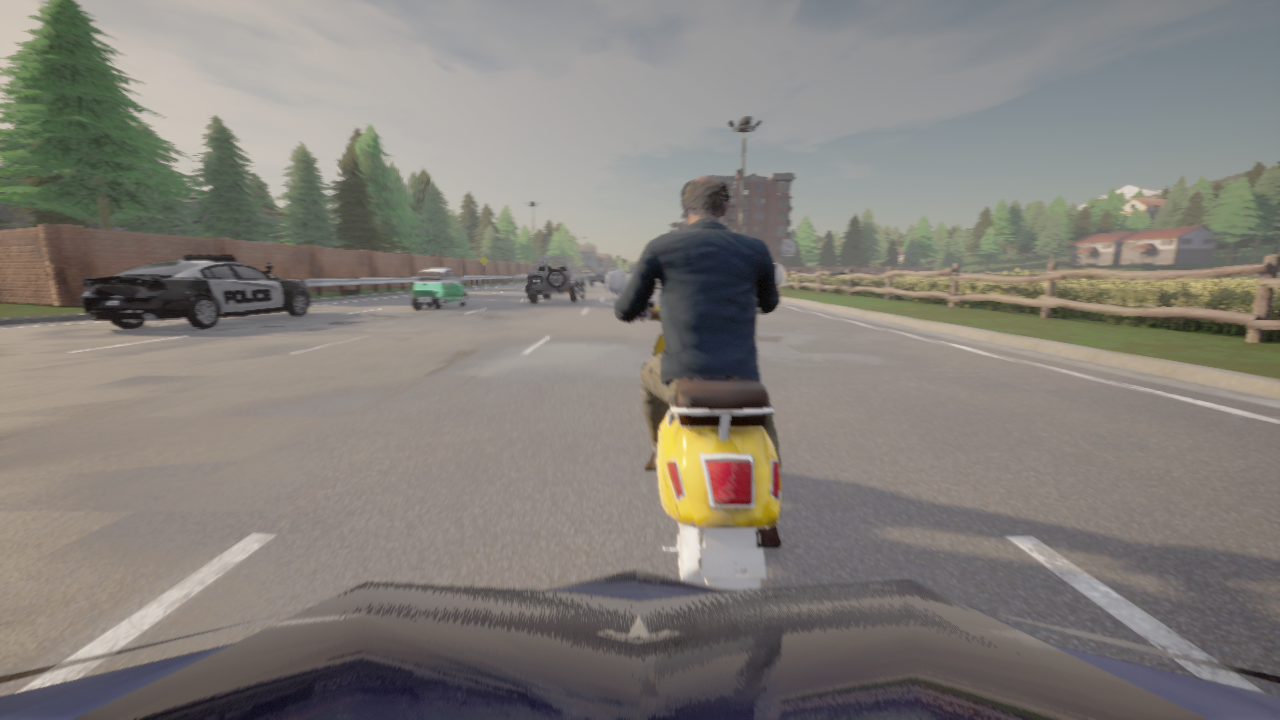cyclist: (0, 569, 1279, 719), (605, 263, 784, 589), (81, 255, 310, 327), (526, 257, 585, 302), (412, 268, 466, 309), (589, 269, 607, 286), (582, 271, 591, 280), (632, 266, 635, 271)
